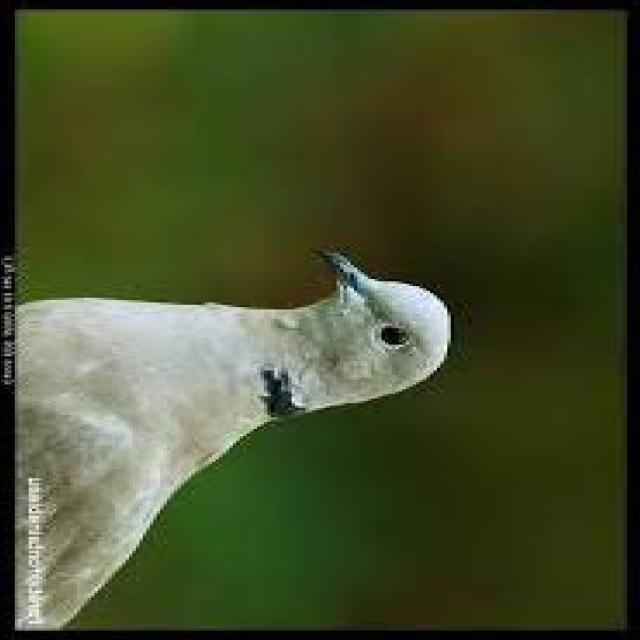pigeon: (0, 218, 491, 640)
